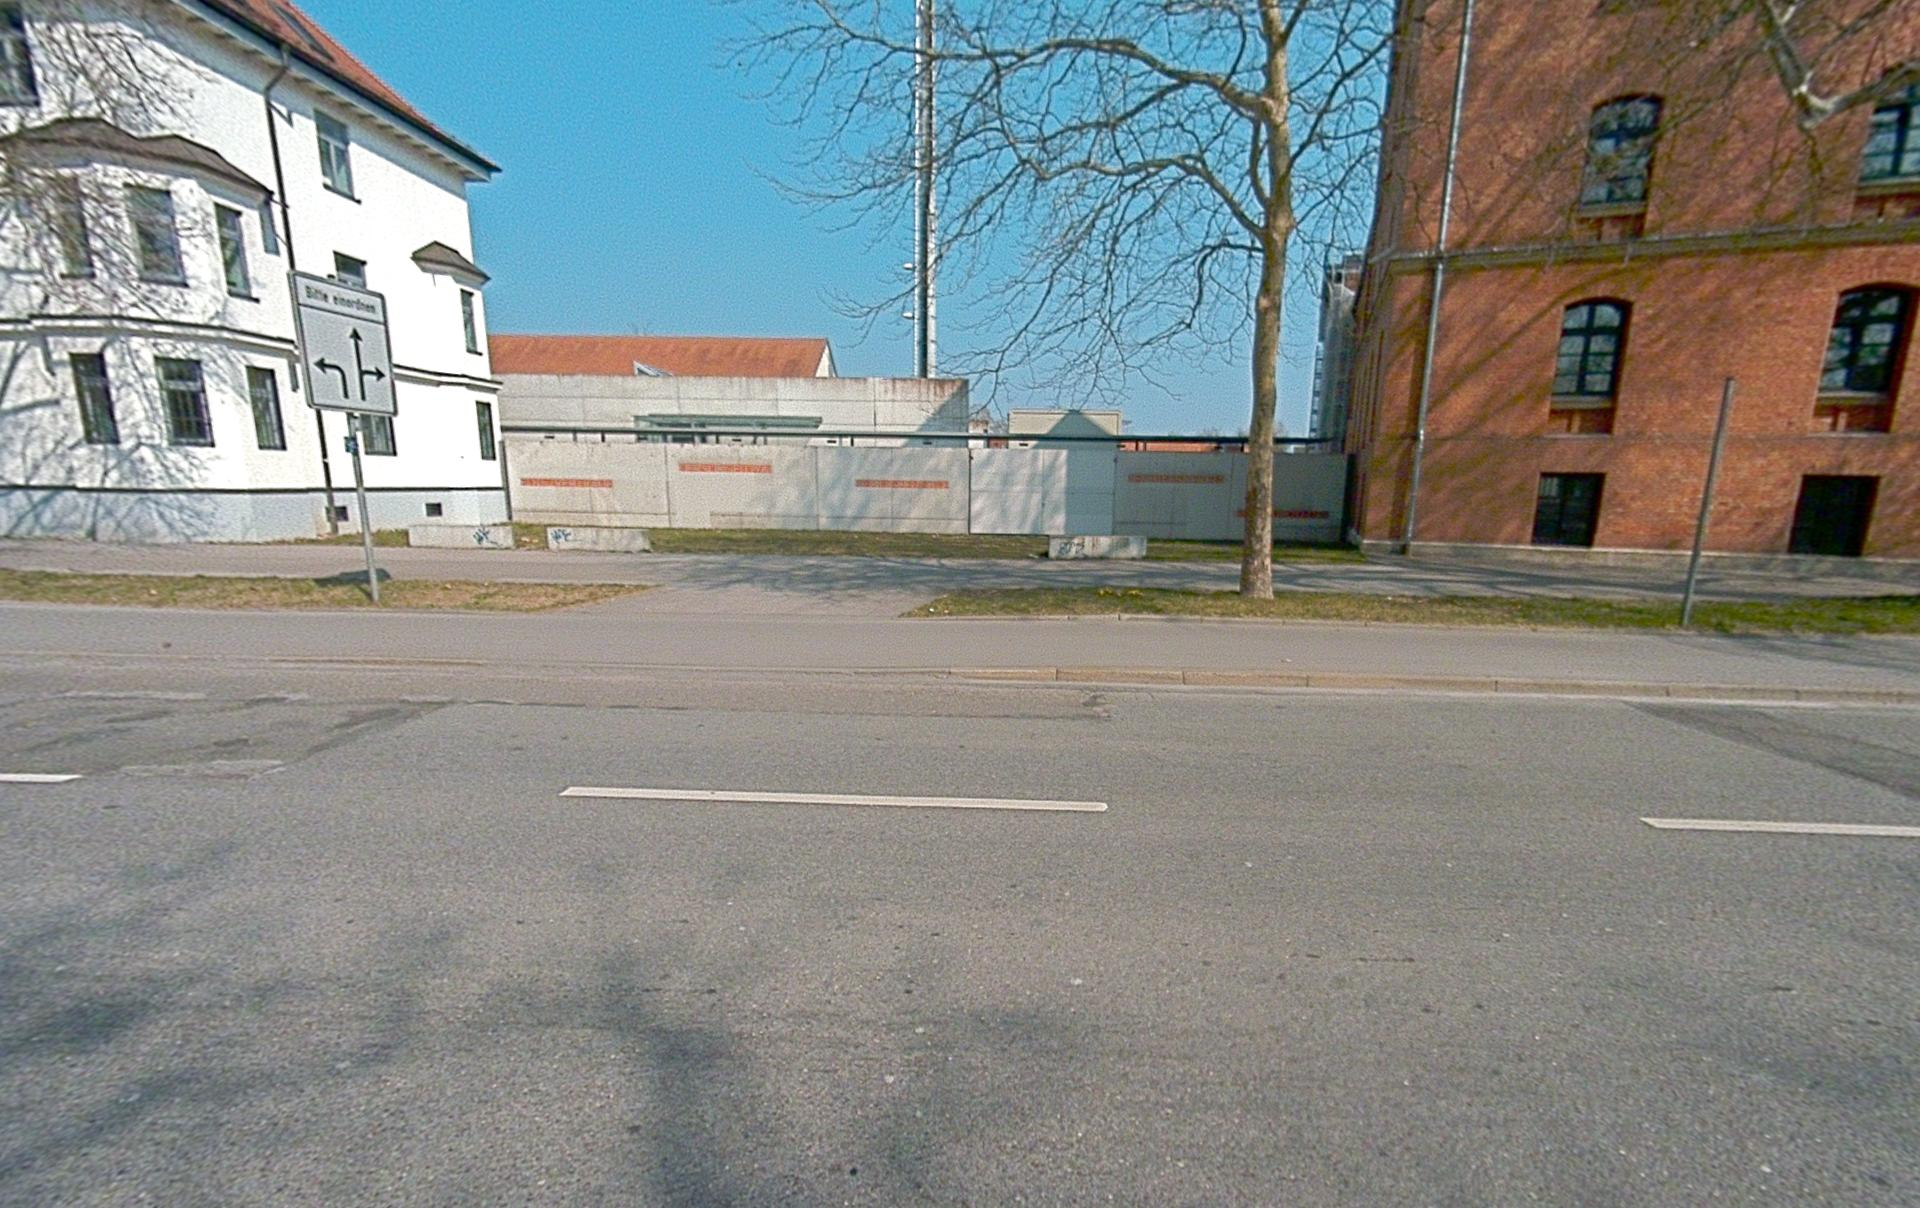traffic sign: (288, 270, 399, 418)
